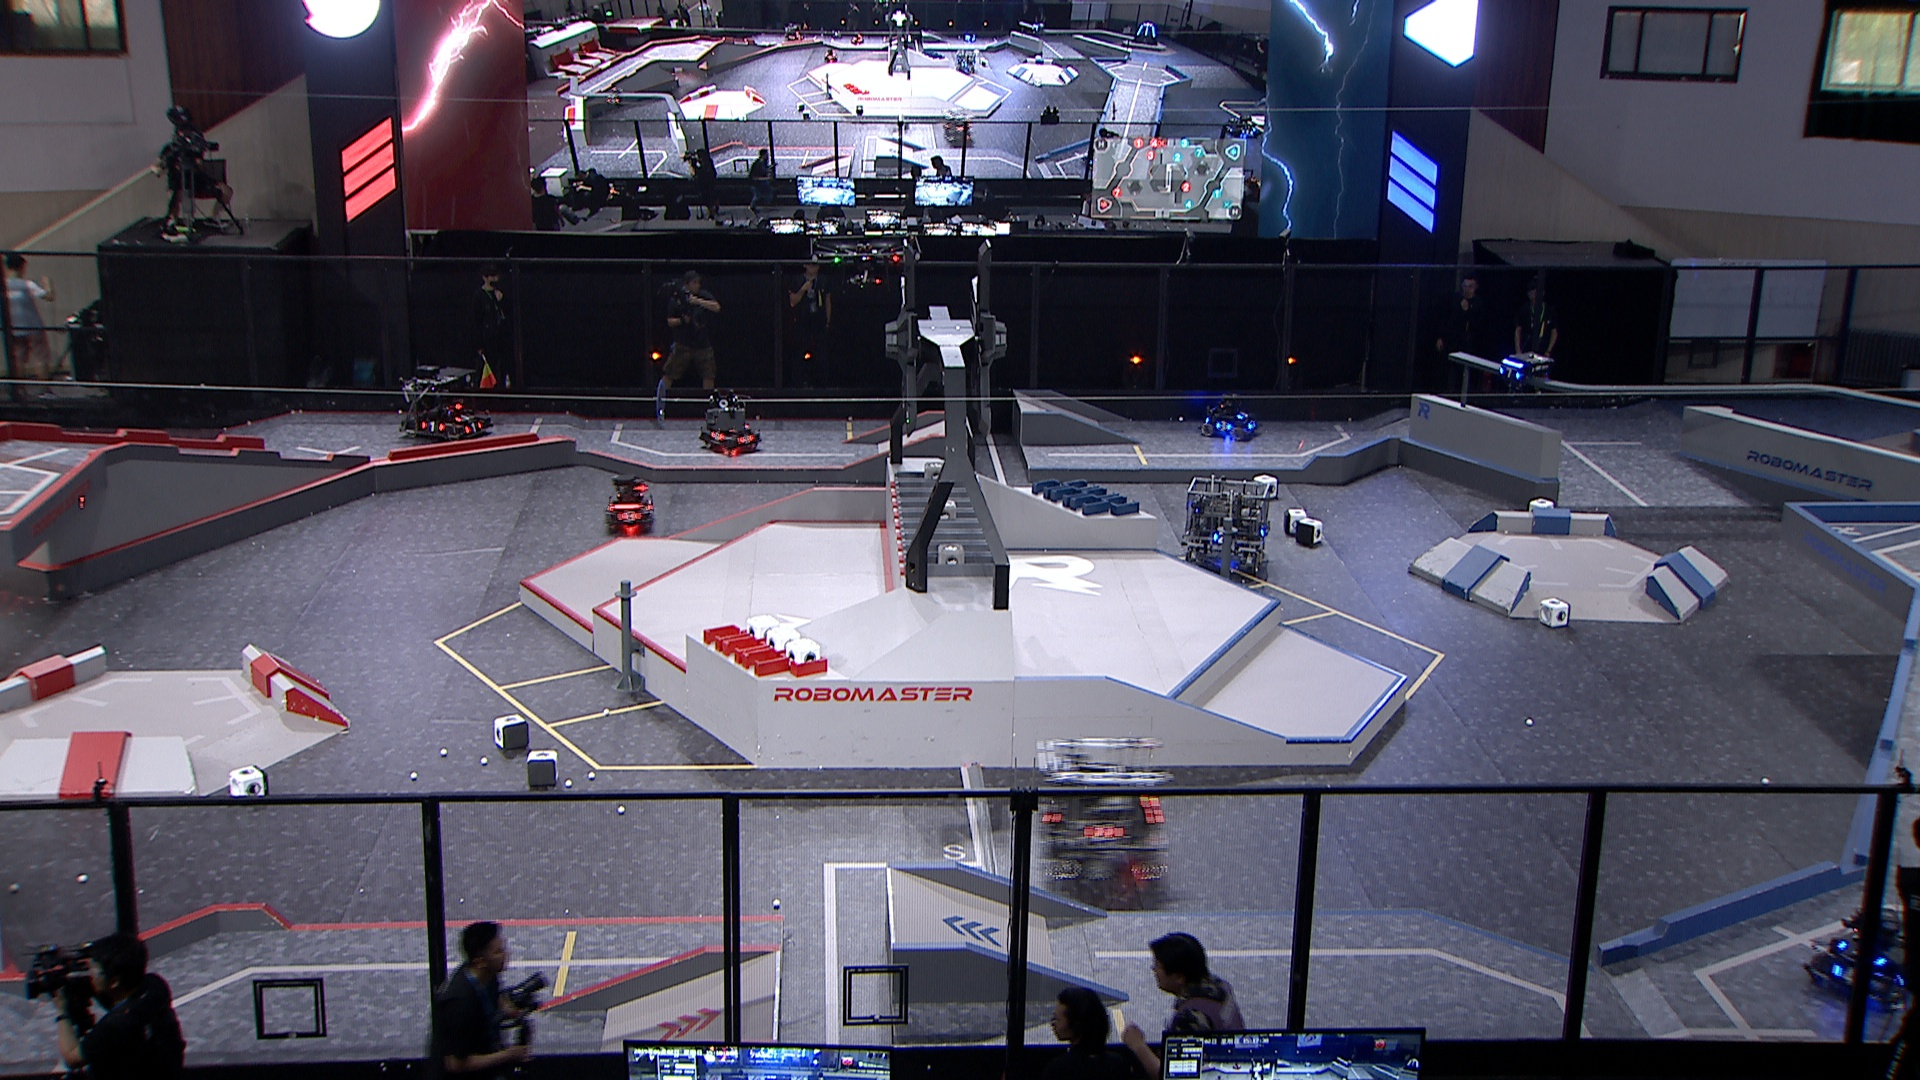armor: (1084, 822, 1126, 845), (1832, 963, 1858, 986), (1038, 800, 1062, 825), (617, 510, 644, 526), (1499, 367, 1523, 382), (419, 419, 446, 433), (465, 419, 484, 438), (737, 431, 756, 447), (1212, 529, 1228, 547), (452, 413, 476, 425), (1215, 419, 1234, 433), (709, 429, 727, 443), (1236, 410, 1250, 422)
car: (1035, 738, 1174, 884), (1803, 906, 1920, 1010), (1182, 476, 1275, 579), (400, 365, 495, 442), (699, 396, 764, 455), (604, 472, 655, 533), (1200, 396, 1262, 440)
ignore: (942, 109, 975, 144), (1222, 113, 1262, 140), (1131, 21, 1160, 46), (956, 49, 978, 74), (605, 87, 624, 107), (783, 24, 803, 41), (823, 46, 839, 63), (1030, 22, 1046, 38), (851, 33, 865, 46), (963, 32, 977, 44)
watcher: (1499, 351, 1555, 396)
